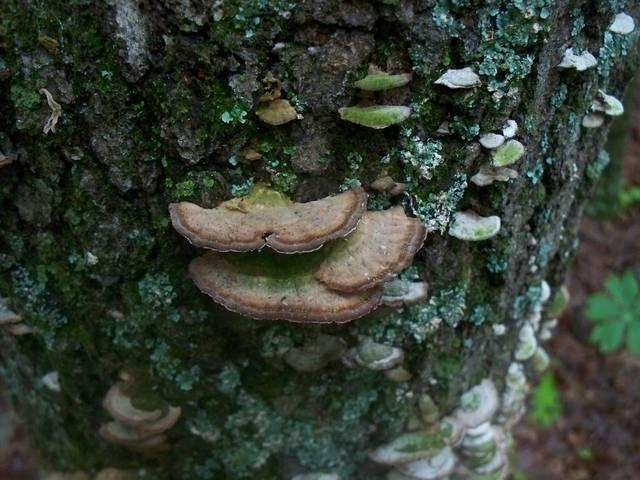Non-edible Mushroom: (166, 180, 428, 324)
